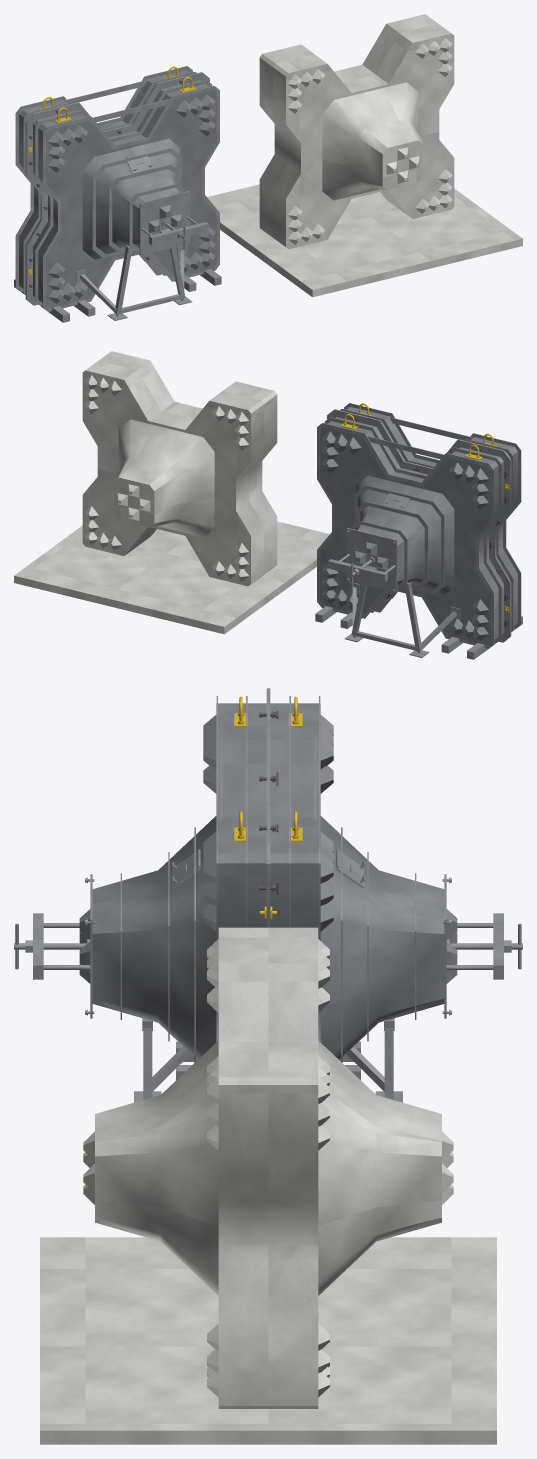
Rendered from accropode-mould-systems.glb.
3 renders of one model, top to bottom at view 1: azimuth 30°, elevation 25°; view 2: azimuth 150°, elevation 25°; view 3: azimuth 270°, elevation 25°, orthographic. The views are drawn at different scales.
Visible parts, largest first — view 1: CastUnit(context), MouldHalfB, StiffenerFrames, Plugs,Jacks&Hatches, PartingFlanges, BaseFrame, MouldHalfA, LiftingLugs; view 2: CastUnit(context), MouldHalfA, StiffenerFrames, Plugs,Jacks&Hatches, BaseFrame, PartingFlanges, MouldHalfB, LiftingLugs; view 3: CastUnit(context), MouldHalfB, MouldHalfA, Plugs,Jacks&Hatches, StiffenerFrames, BaseFrame, PartingFlanges, LiftingLugs.
Boxes of the visible parts, bbox=[...] form: CastUnit(context): bbox=[207, 14, 522, 297]; MouldHalfB: bbox=[33, 80, 216, 308]; StiffenerFrames: bbox=[15, 66, 219, 311]; Plugs,Jacks&Hatches: bbox=[126, 153, 208, 255]; PartingFlanges: bbox=[25, 72, 209, 305]; BaseFrame: bbox=[14, 245, 221, 322]; MouldHalfA: bbox=[19, 70, 189, 288]; LiftingLugs: bbox=[27, 66, 196, 274]; CastUnit(context): bbox=[14, 351, 329, 634]; MouldHalfA: bbox=[320, 417, 503, 645]; StiffenerFrames: bbox=[317, 403, 521, 648]; Plugs,Jacks&Hatches: bbox=[328, 490, 410, 592]; BaseFrame: bbox=[315, 582, 522, 659]; PartingFlanges: bbox=[327, 409, 511, 642]; MouldHalfB: bbox=[347, 407, 517, 625]; LiftingLugs: bbox=[340, 403, 509, 611]; CastUnit(context): bbox=[40, 927, 496, 1444]; MouldHalfB: bbox=[79, 703, 266, 1059]; MouldHalfA: bbox=[270, 703, 457, 1059]; Plugs,Jacks&Hatches: bbox=[14, 849, 522, 1018]; StiffenerFrames: bbox=[120, 696, 416, 1062]; BaseFrame: bbox=[134, 1018, 402, 1102]; PartingFlanges: bbox=[266, 688, 270, 927]; LiftingLugs: bbox=[234, 696, 302, 918].
Size of the model in its own units: 6.21 by 2.7 by 3.34.
Materials: 5 (5 with a texture image).
